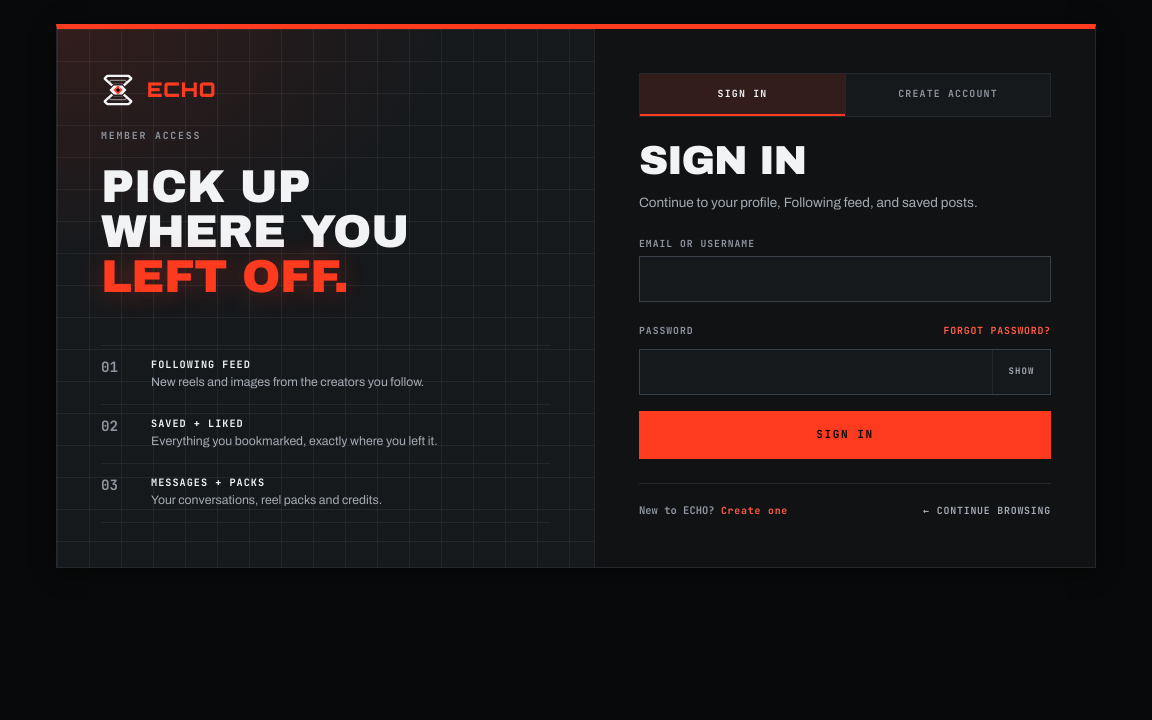
AuthPage — sign in › tells a suspended account it is suspended and links to the appeal form
Type "bob" into the field labelled "EMAIL OR USERNAME" at {"x": 845, "y": 279}, box [640,257,1050,301]
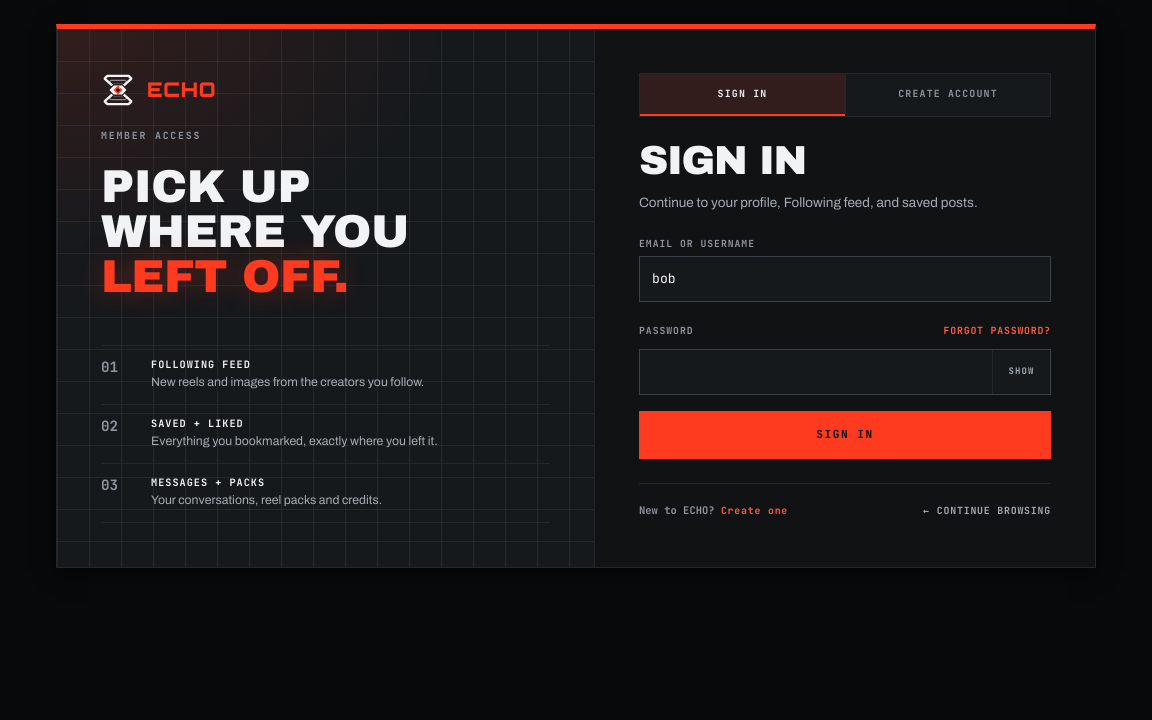
Type "right password" into the password field labelled "PASSWORD" at {"x": 816, "y": 372}, box [640,350,992,394]
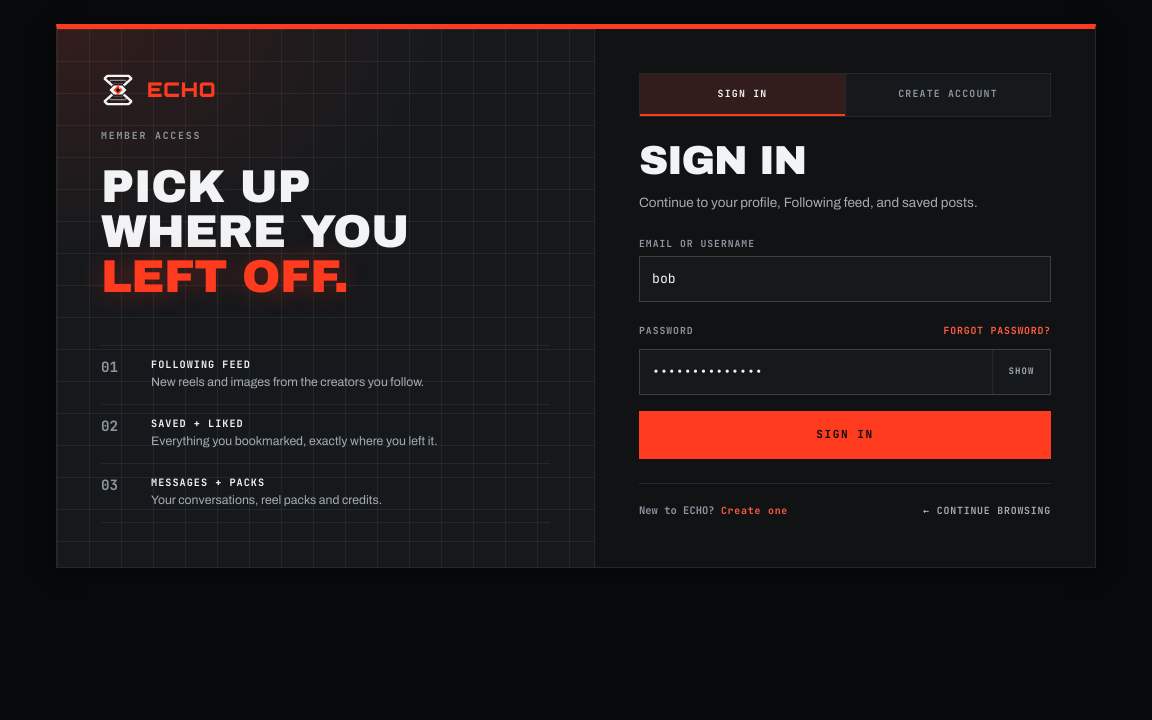
Click the button "SIGN IN" at {"x": 845, "y": 435}, box [639,411,1051,459]
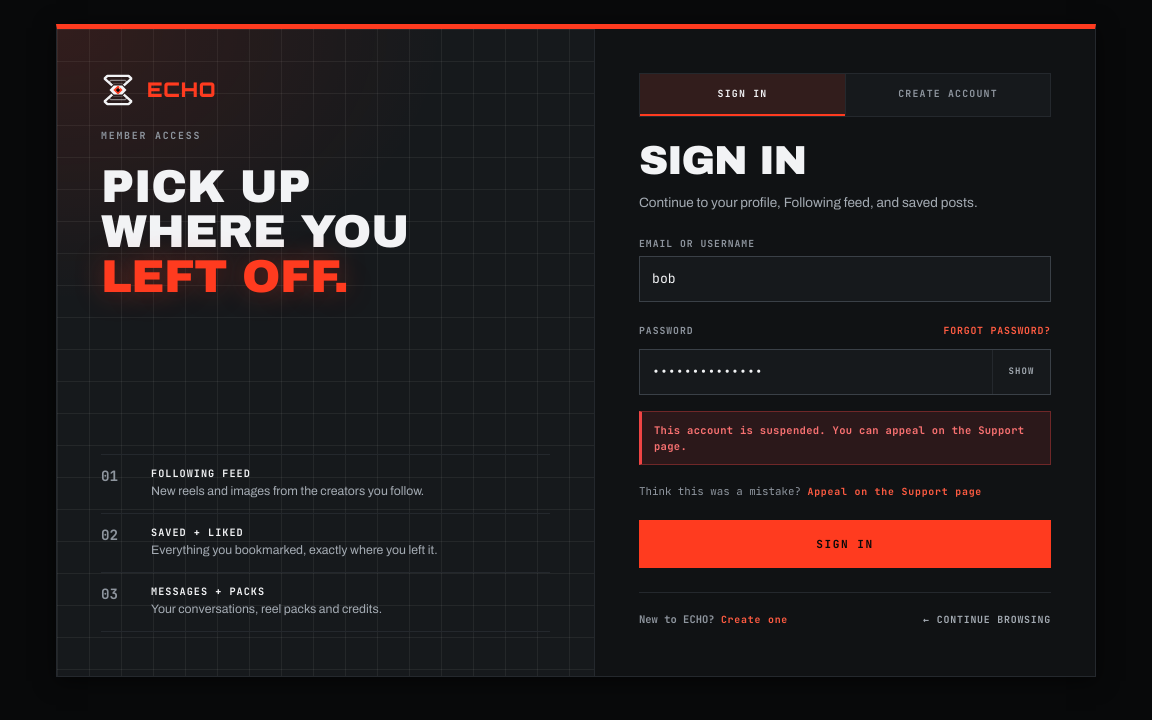
Expected: the message shows "This account is suspended.", [654,423,1024,453]
